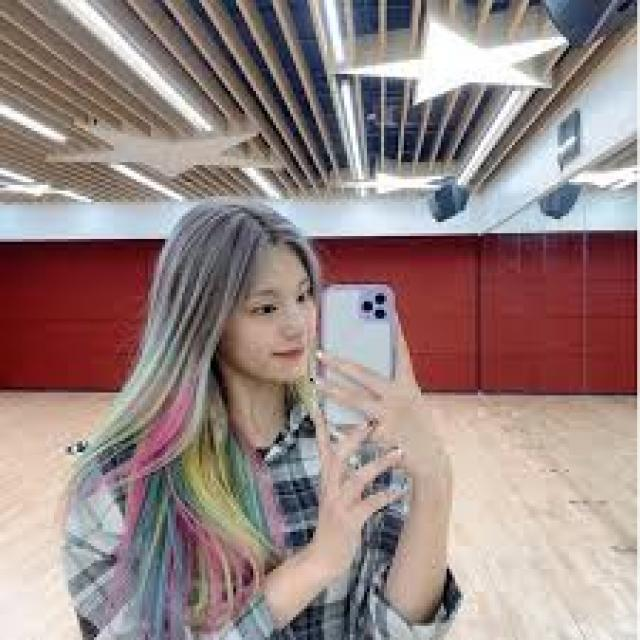Phone: (319, 280, 397, 432)
